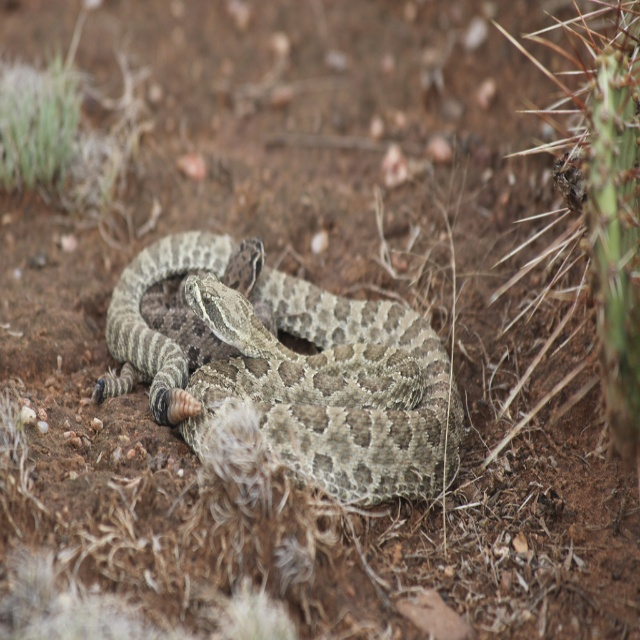Snake: (105, 229, 464, 504)
